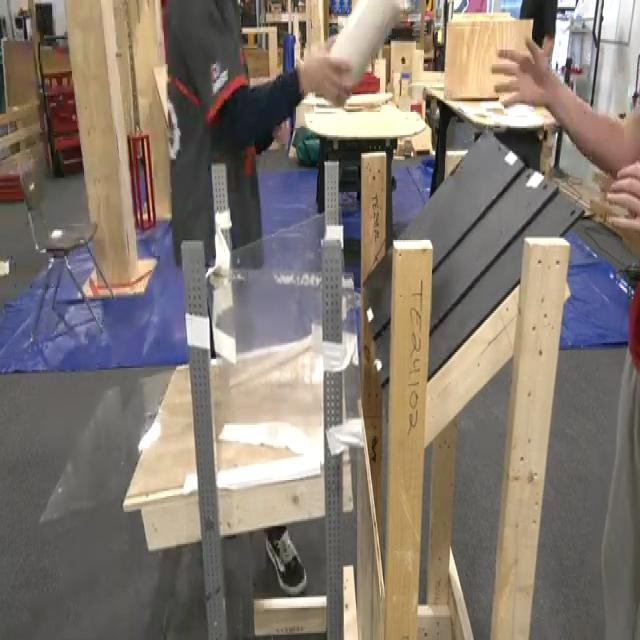Coral: (331, 0, 404, 83)
